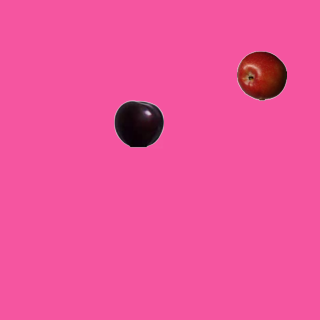Apple Braeburn: (236, 50, 286, 100)
Cherry Wax Black: (113, 98, 163, 148)
